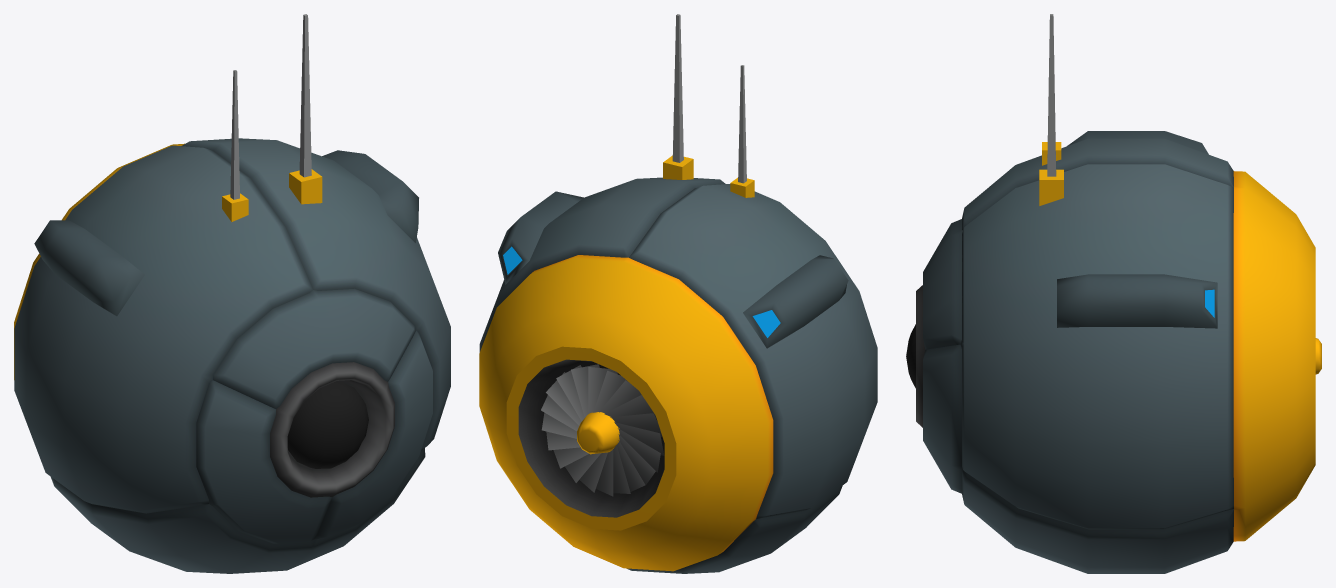
The model's file is Drone_012.glb.
3 renders of one model, left to right at view 1: azimuth 30°, elevation 25°; view 2: azimuth 150°, elevation 25°; view 3: azimuth 270°, elevation 25°, orthographic. The views are drawn at different scales.
Parts seen in each view (by area): view 1: Drone_012; view 2: Drone_012; view 3: Drone_012.
Part boxes in pixels (x1,y1,x2,y2): Drone_012: [14, 14, 450, 573]; Drone_012: [479, 14, 877, 573]; Drone_012: [906, 14, 1321, 573].
Size of the model in its own units: 0.3263 by 0.4666 by 0.3153.
Materials: 3 (2 with a texture image).
